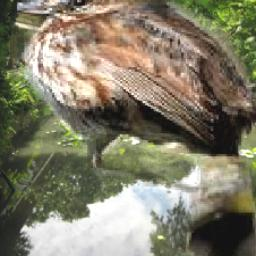Sparrow: (18, 0, 256, 256)
